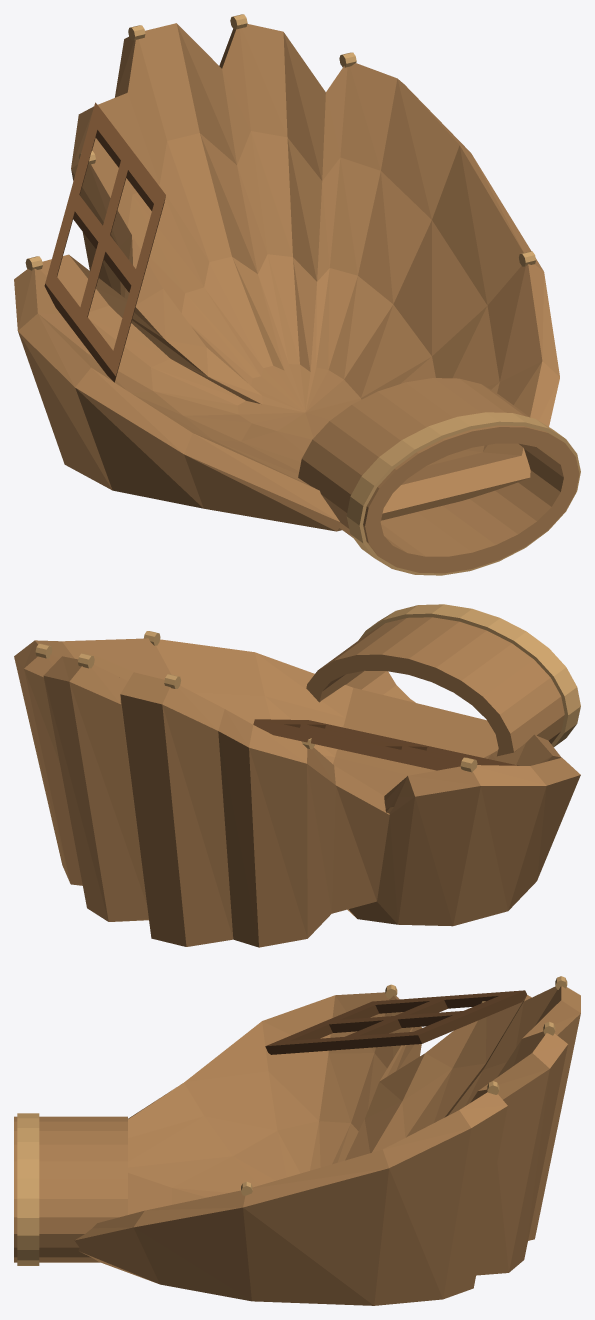
3 views of the same model, one above another, from view 1: azimuth 30°, elevation 25°; view 2: azimuth 150°, elevation 25°; view 3: azimuth 270°, elevation 25° (orthographic). The views are drawn at different scales.
Visible parts, largest first — view 1: WholeGroundFootAsymmetricOpenPalmAndFingerThumbLobes, WholeOpenOvalWristCuff, WholePiercedThumbToFingerWeb, WholeWristBindingRetainingOpenAperture; view 2: WholeGroundFootAsymmetricOpenPalmAndFingerThumbLobes, WholeOpenOvalWristCuff, WholePiercedThumbToFingerWeb, WholeWristBindingRetainingOpenAperture; view 3: WholeGroundFootAsymmetricOpenPalmAndFingerThumbLobes, WholeOpenOvalWristCuff, WholePiercedThumbToFingerWeb, WholeWristBindingRetainingOpenAperture.
Boxes of the visible parts, x1,y1,x2,y2 form: WholeGroundFootAsymmetricOpenPalmAndFingerThumbLobes: [14, 23, 559, 531]; WholeOpenOvalWristCuff: [298, 378, 579, 573]; WholePiercedThumbToFingerWeb: [44, 102, 165, 382]; WholeWristBindingRetainingOpenAperture: [346, 412, 580, 575]; WholeGroundFootAsymmetricOpenPalmAndFingerThumbLobes: [14, 638, 580, 947]; WholeOpenOvalWristCuff: [306, 617, 564, 756]; WholePiercedThumbToFingerWeb: [253, 719, 519, 770]; WholeWristBindingRetainingOpenAperture: [358, 604, 580, 746]; WholeGroundFootAsymmetricOpenPalmAndFingerThumbLobes: [74, 986, 580, 1305]; WholeOpenOvalWristCuff: [14, 1116, 127, 1262]; WholePiercedThumbToFingerWeb: [265, 990, 526, 1054]; WholeWristBindingRetainingOpenAperture: [17, 1113, 39, 1265].
Bounding box in the file's own units: 0.2795 × 0.1775 × 0.3336.
